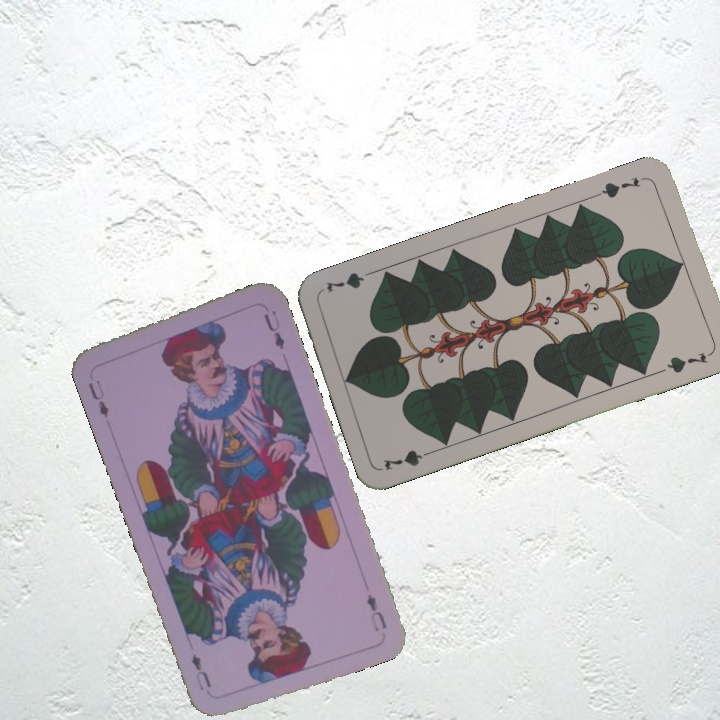EU: (362, 589, 390, 634), (84, 376, 112, 420)
G7: (593, 172, 650, 201), (379, 445, 438, 473)
